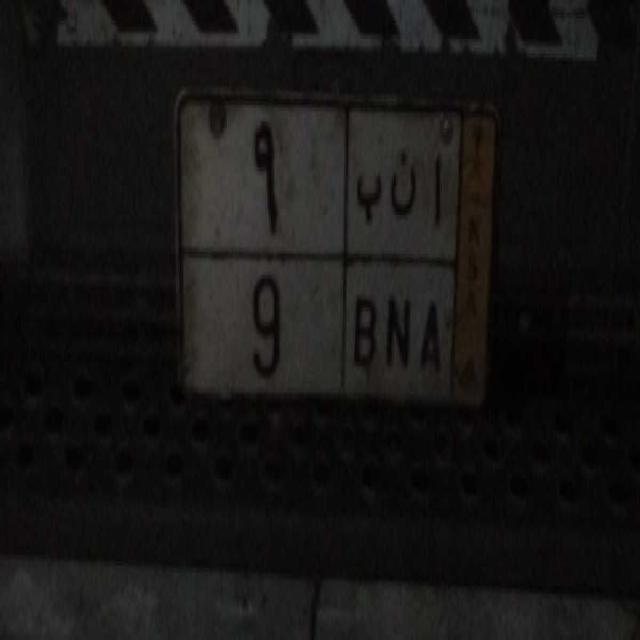license_plate: (181, 246, 455, 407)
